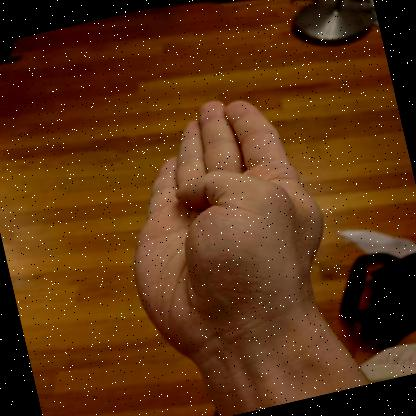B: (134, 100, 341, 374)
